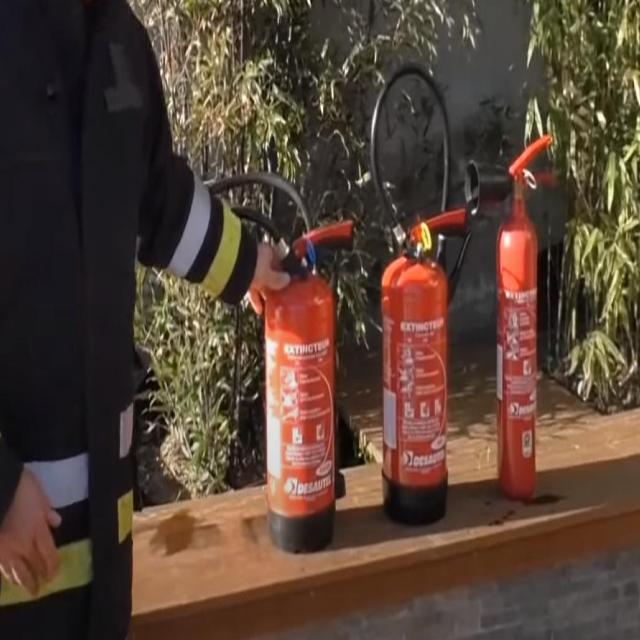fire_extinguisher: (192, 165, 356, 558), (363, 53, 477, 531), (459, 124, 569, 502)
